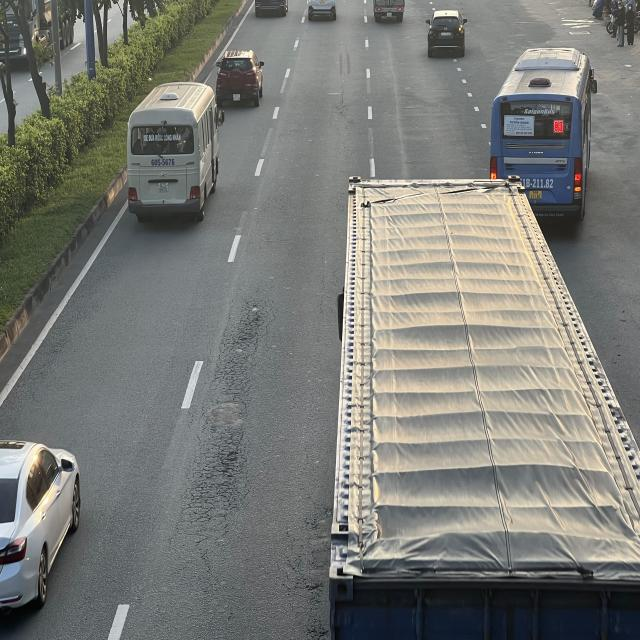car: (0, 441, 81, 616), (216, 50, 264, 105), (424, 8, 465, 56)
coach: (493, 48, 600, 222), (126, 83, 221, 223)
container: (331, 173, 640, 632)
